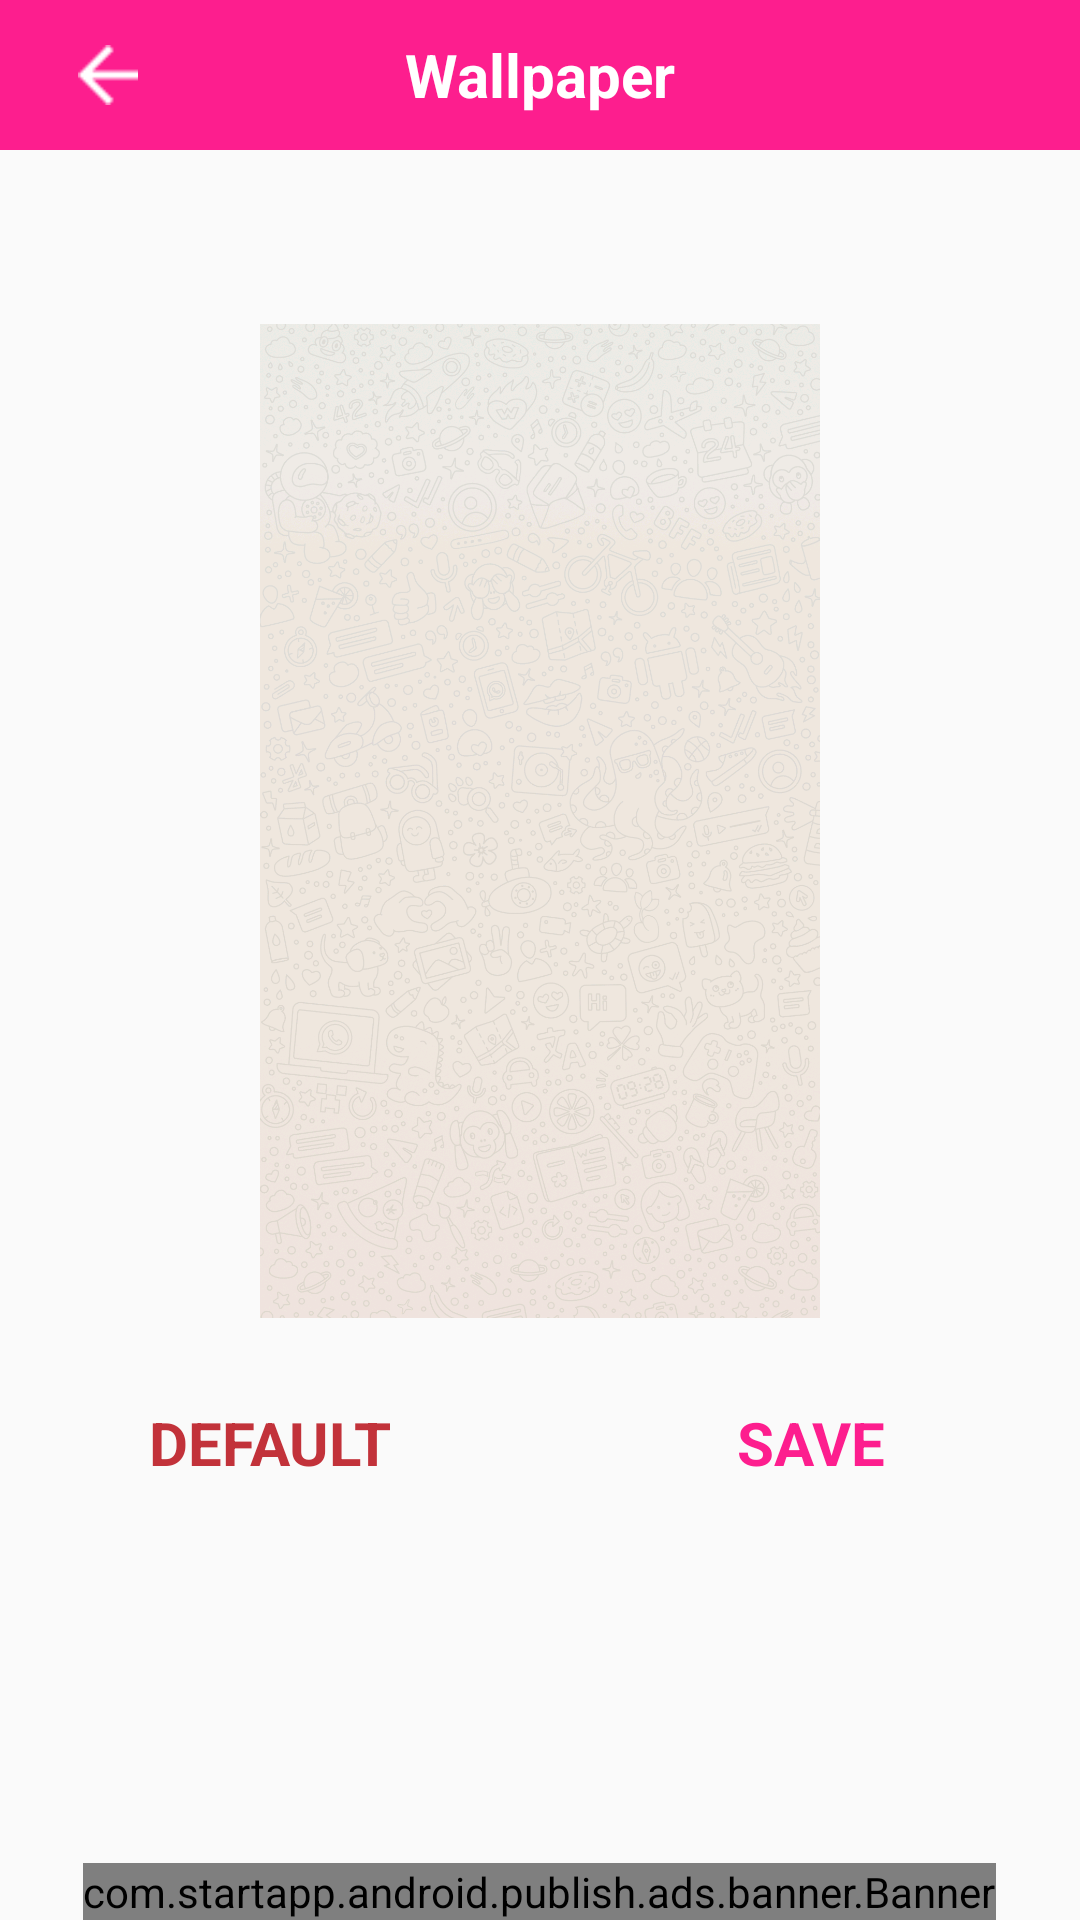

Where icons sit on this 1080x1920 app screen, as (x1,y1,x2,y2):
back: (78,45,138,105)
